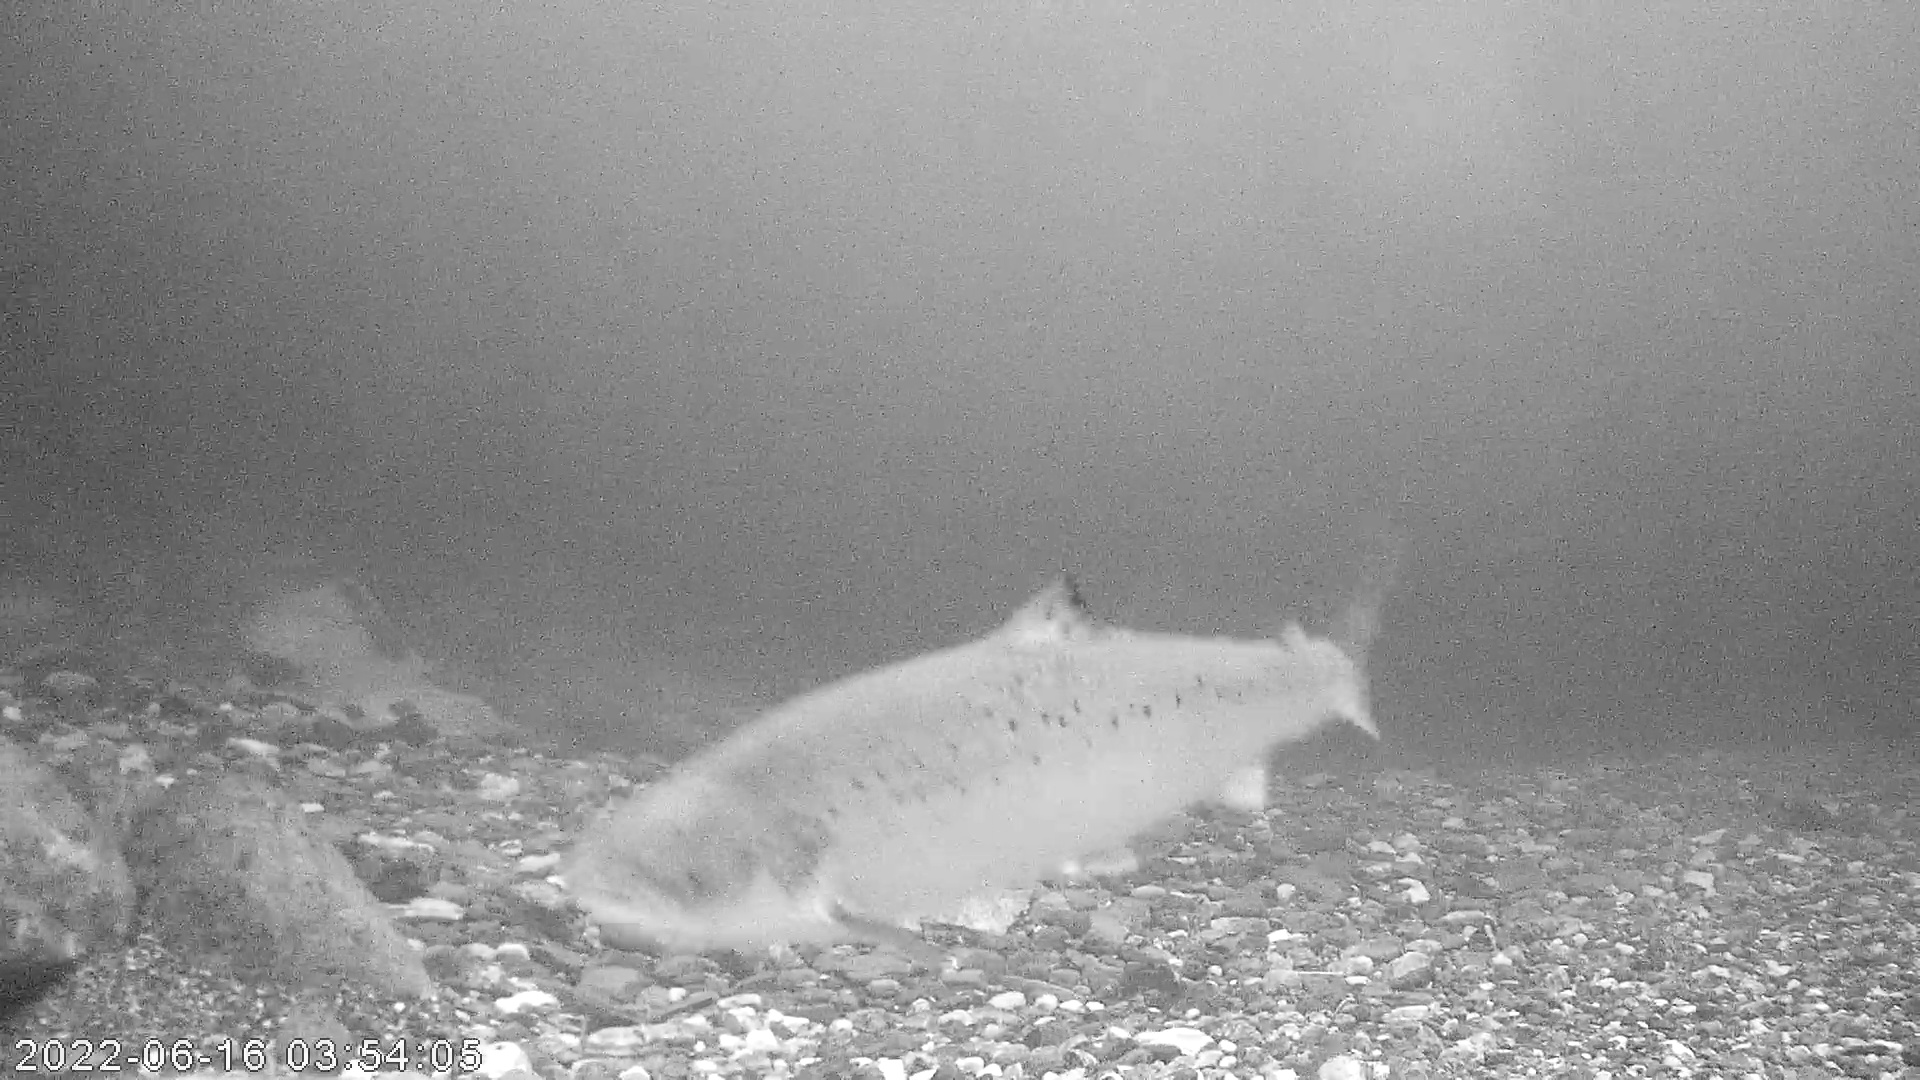salmon: (558, 568, 1385, 952)
